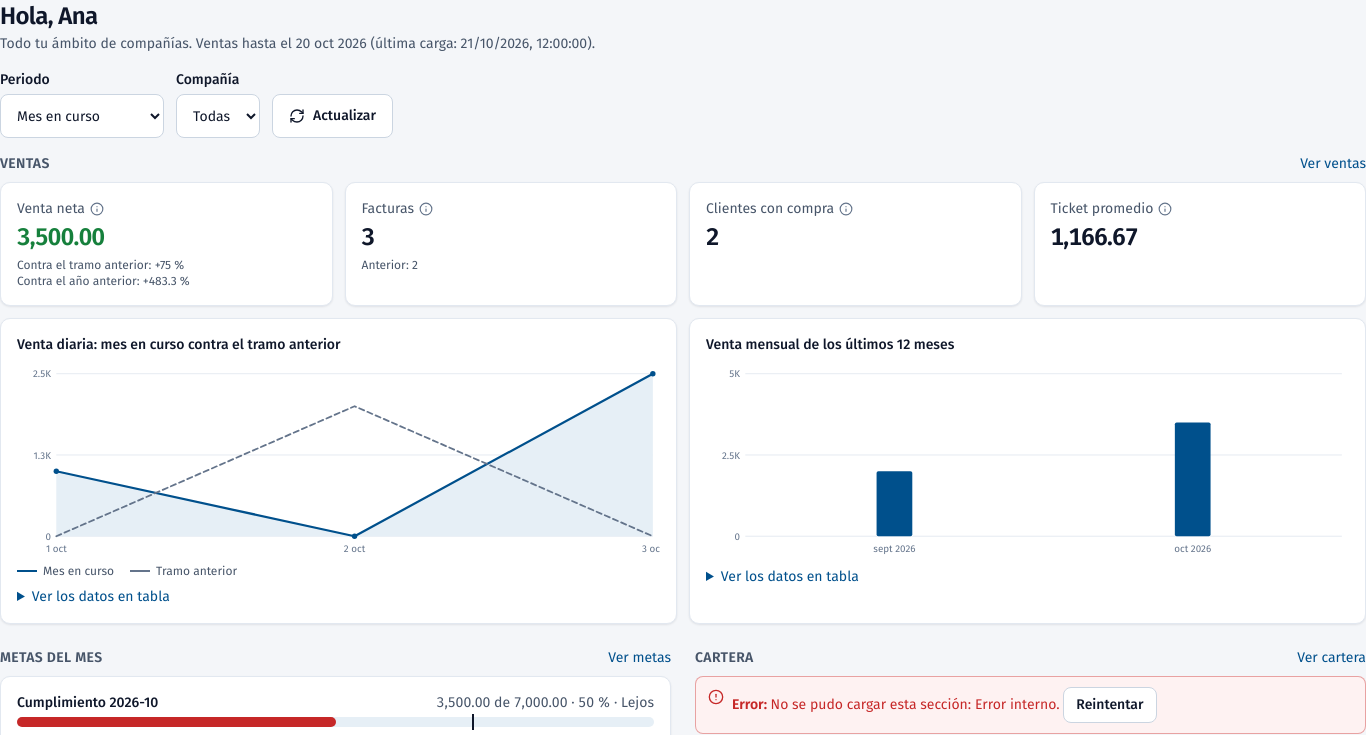
Test case: dashboard de inicio › una sección que falla muestra su error con reintento sin afectar a las demás
Expected: the text "No se pudo cargar esta sección" is shown, 771,696 -> 975,714
Click the button "Reintentar" at [1110, 706], box 1063,688 -> 1156,724
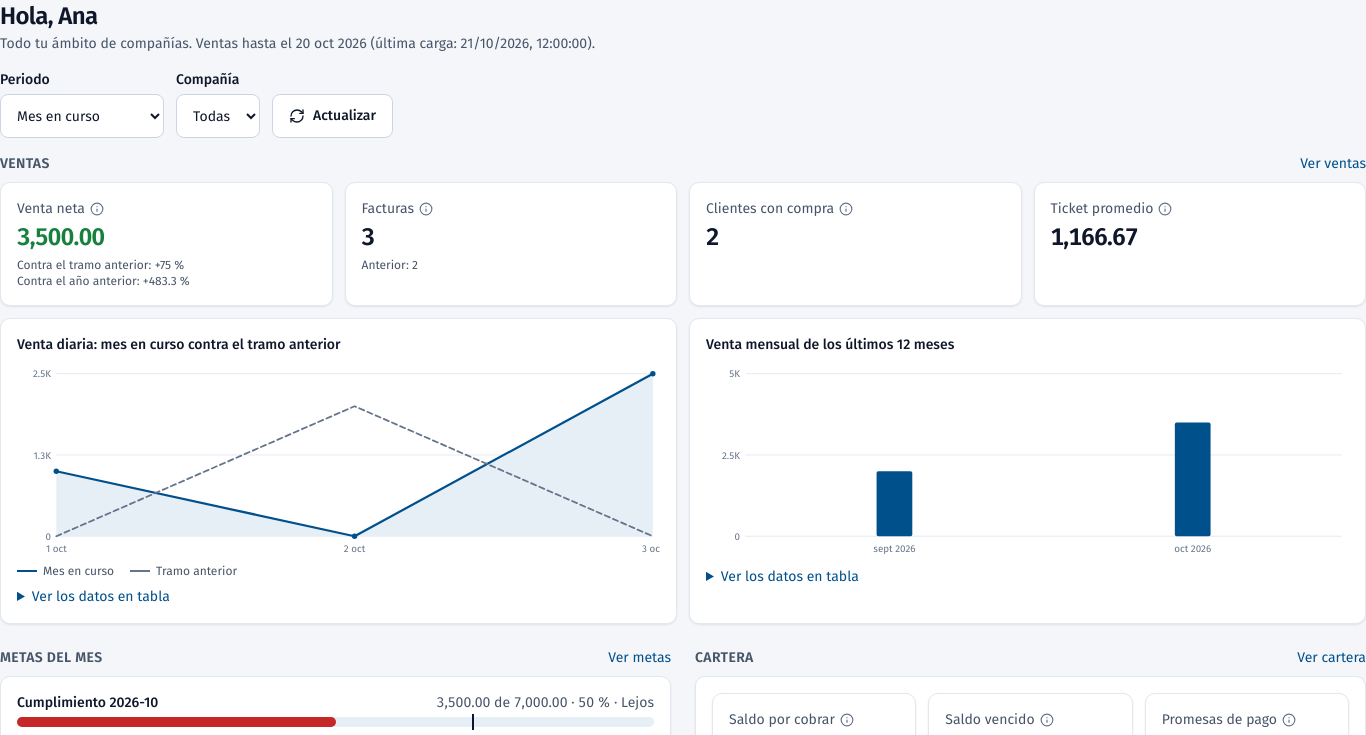
Expected: the text "Saldo por cobrar" is shown, 729,712 -> 855,728
